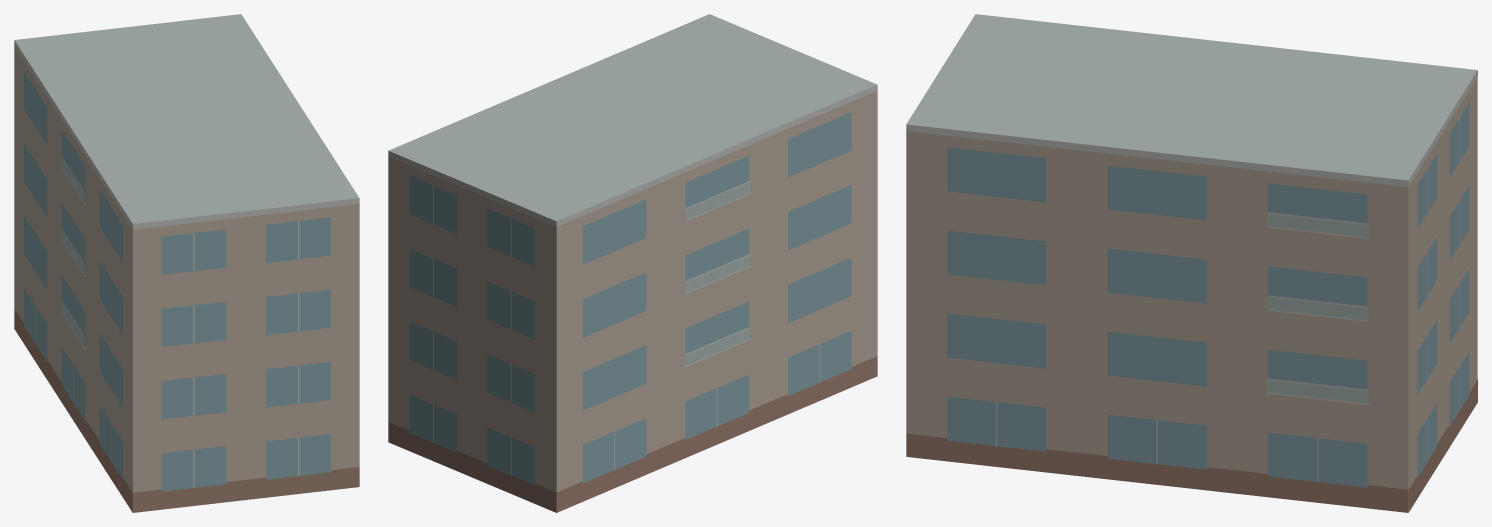
Rendered from residential-0015bae6-44f1-4d37-87c8-203e3113e1c6.glb.
The picture shows the model from 3 angles, left to right: view 1: azimuth 30°, elevation 25°; view 2: azimuth 150°, elevation 25°; view 3: azimuth 270°, elevation 25°; orthographic projection. The views are drawn at different scales.
Visible parts, largest first — view 1: residential-0015bae6-44f1-4d37-87c8-203e3113e1c6.tmp; view 2: residential-0015bae6-44f1-4d37-87c8-203e3113e1c6.tmp; view 3: residential-0015bae6-44f1-4d37-87c8-203e3113e1c6.tmp.
Boxes of the visible parts, bbox=[...] form: residential-0015bae6-44f1-4d37-87c8-203e3113e1c6.tmp: bbox=[14, 14, 359, 512]; residential-0015bae6-44f1-4d37-87c8-203e3113e1c6.tmp: bbox=[388, 14, 877, 512]; residential-0015bae6-44f1-4d37-87c8-203e3113e1c6.tmp: bbox=[906, 14, 1477, 512].
Size of the model in its own units: 13.12 by 12.2 by 19.02.
